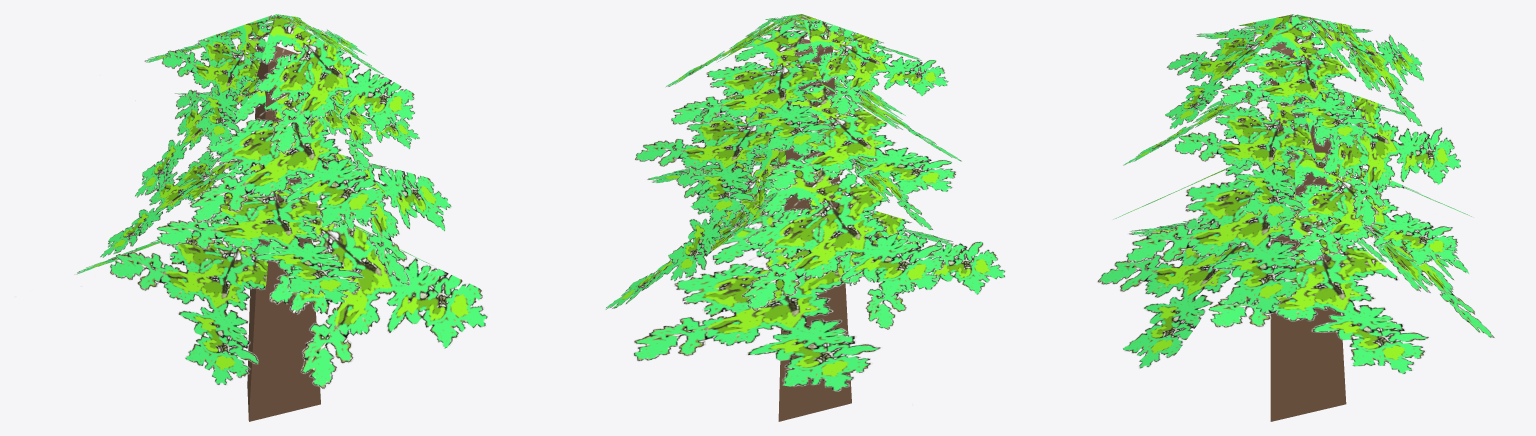
The model's file is TreeMin.glb.
3 views of the same model, side by side, from view 1: azimuth 30°, elevation 25°; view 2: azimuth 150°, elevation 25°; view 3: azimuth 270°, elevation 25° (orthographic).
Parts seen in each view (by area): view 1: Pine; view 2: Pine; view 3: Pine.
Boxes of the visible parts, bbox=[...] form: Pine: bbox=[15, 14, 488, 421]; Pine: bbox=[605, 14, 1005, 421]; Pine: bbox=[1097, 14, 1494, 421].
Size of the model in its own units: 0.104 by 0.0988 by 0.104.
2 materials, 1 textured.
